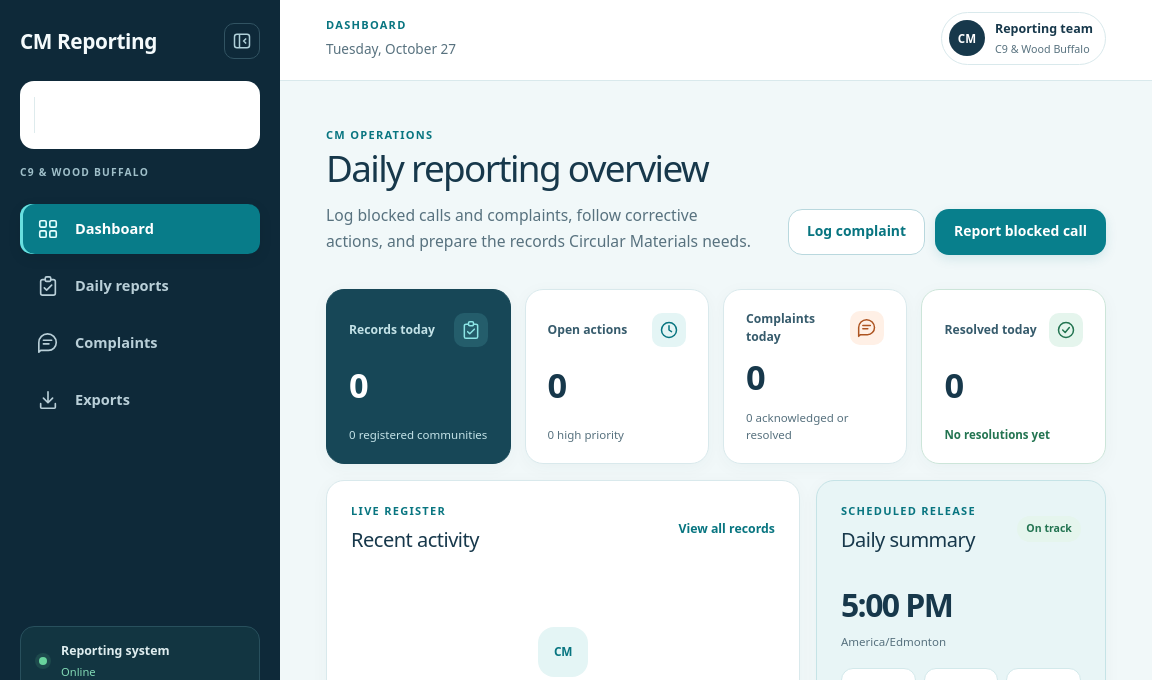
it: export date controls › blocks invalid ranges and re-enables a corrected Complaint record export
Click the button "Exports" at (140, 400), box [20, 375, 260, 425]
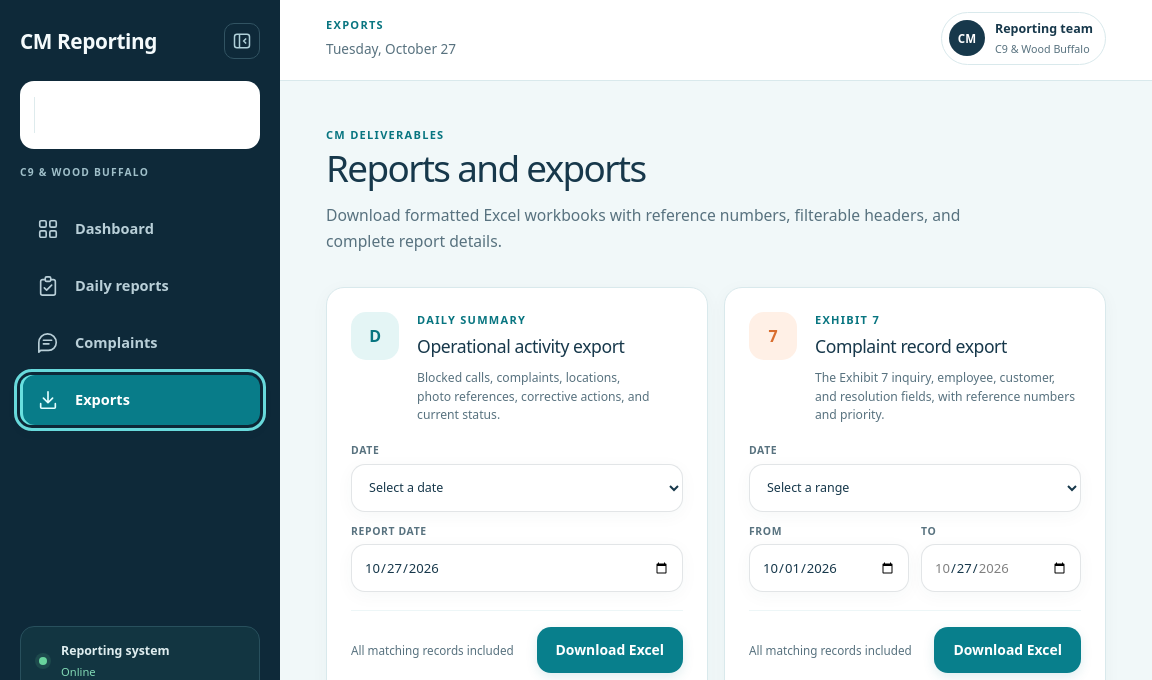
Select "Select a range" in the dropdown labelled "Date" below "Complaint record export" at (915, 488), box [749, 464, 1081, 512]
Type "2026-09-24" into the date field labelled "From" at (829, 568), box [749, 544, 909, 592]
Type "2026-09-21" into the date field labelled "To" at (1001, 568), box [921, 544, 1081, 592]
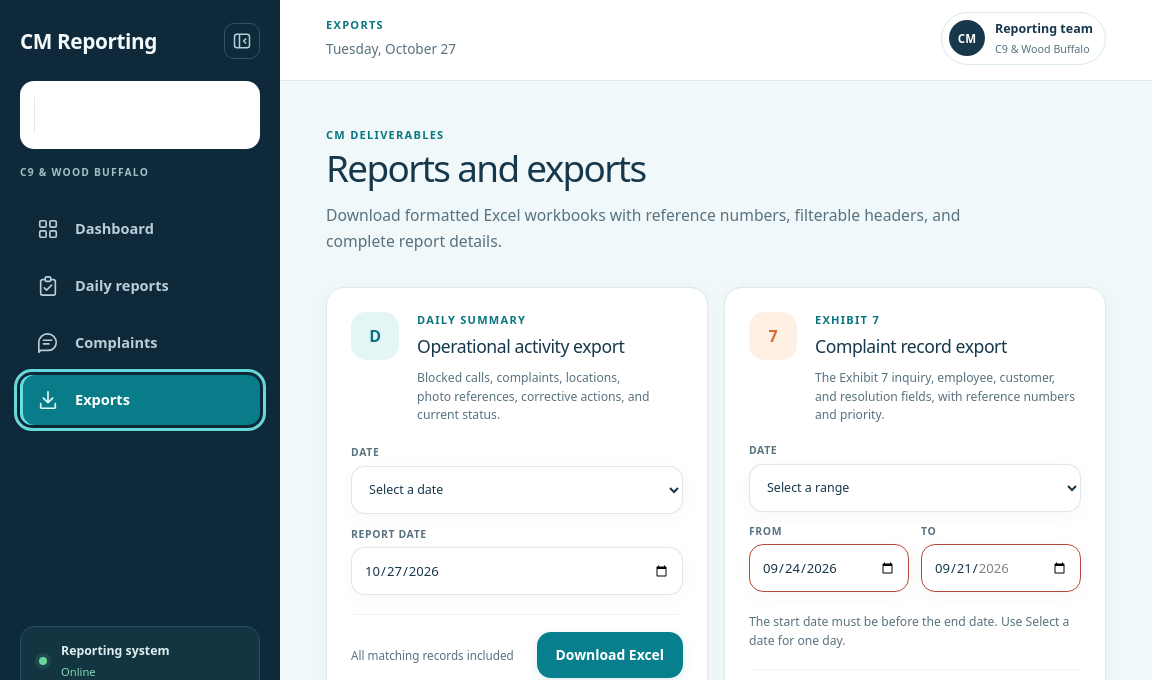
Now the message shows "start date must be before", box [749, 613, 1069, 649]
Type "2026-09-24" into the date field labelled "To" at (1001, 568), box [921, 544, 1081, 592]
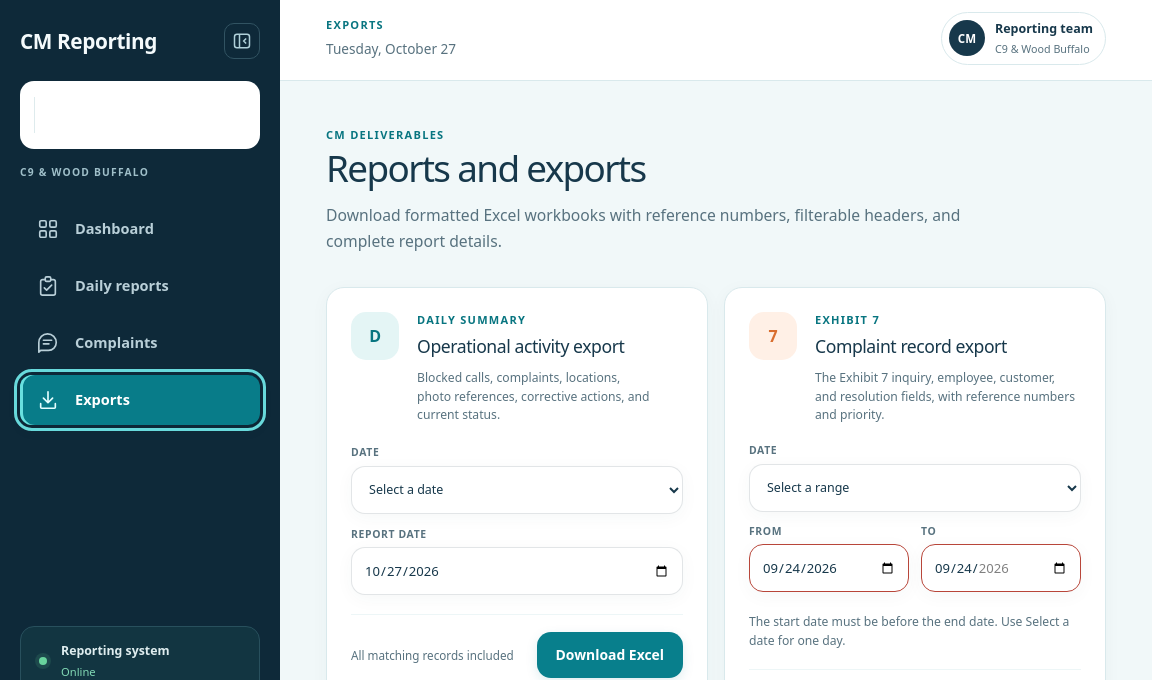
Now the message shows "Use Select a date", box [749, 613, 1069, 649]
Select "Select a date" in the dropdown labelled "Date" below "Complaint record export" at (915, 488), box [749, 464, 1081, 512]
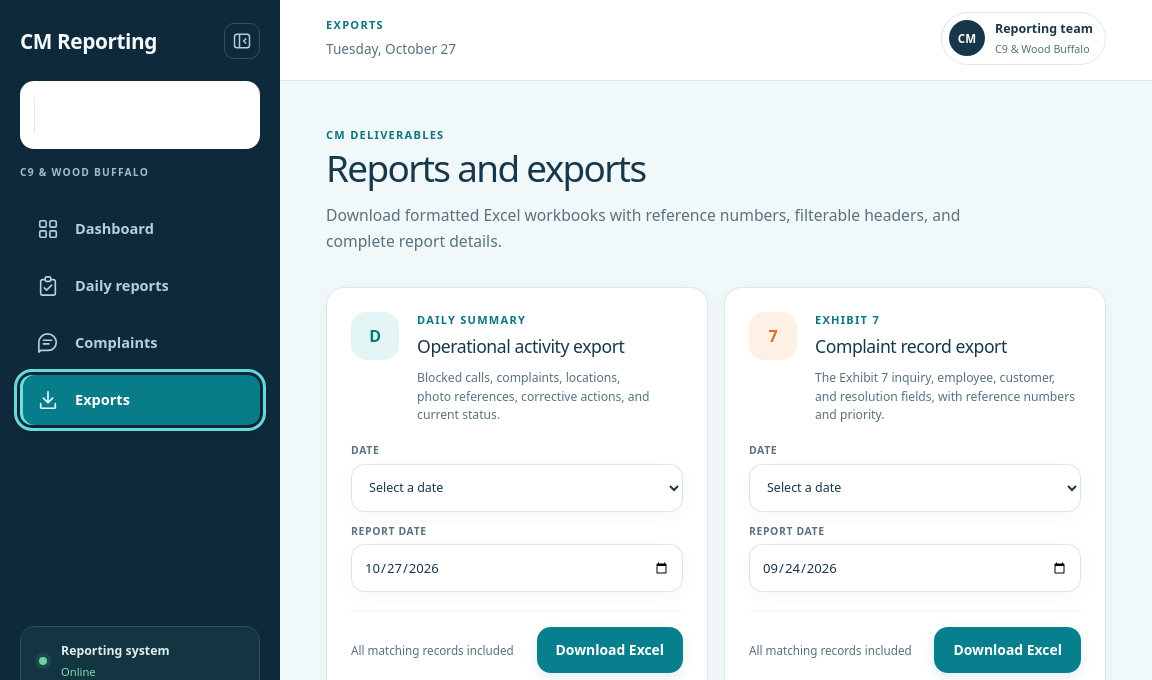
Now the message "The start date must be before the end date. Use Select a date for one day." is gone
Select "Select a range" in the dropdown labelled "Date" below "Complaint record export" at (915, 488), box [749, 464, 1081, 512]
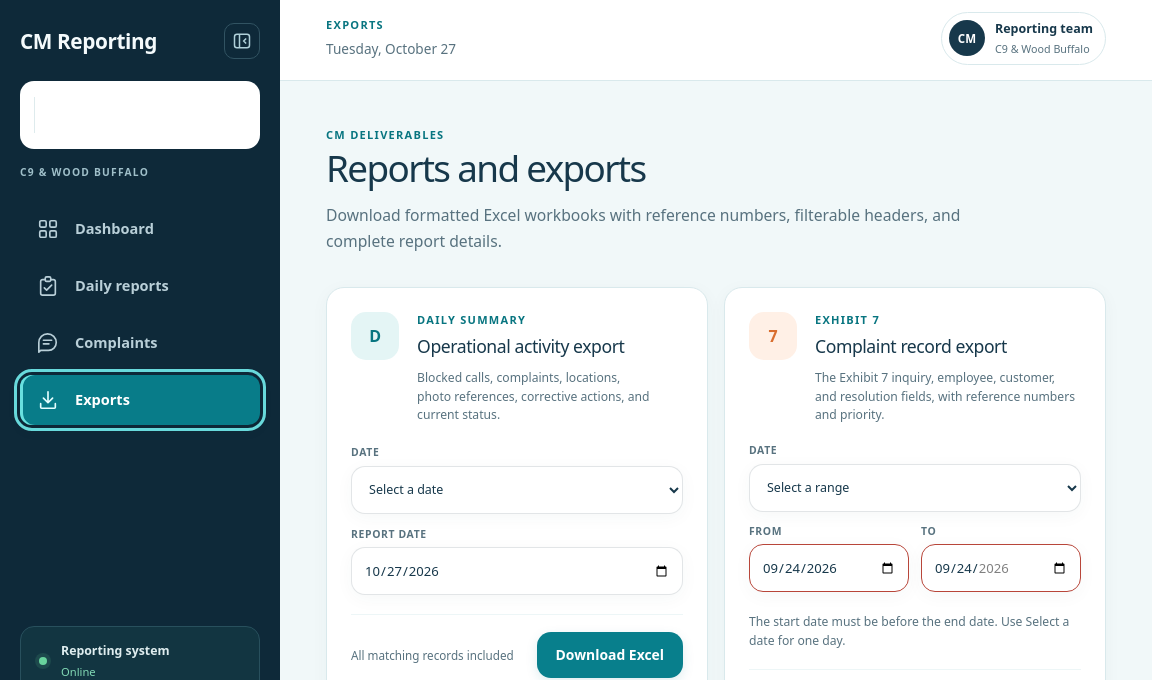
Clear the date field labelled "From" at (829, 568), box [749, 544, 909, 592]
(page scrolled)
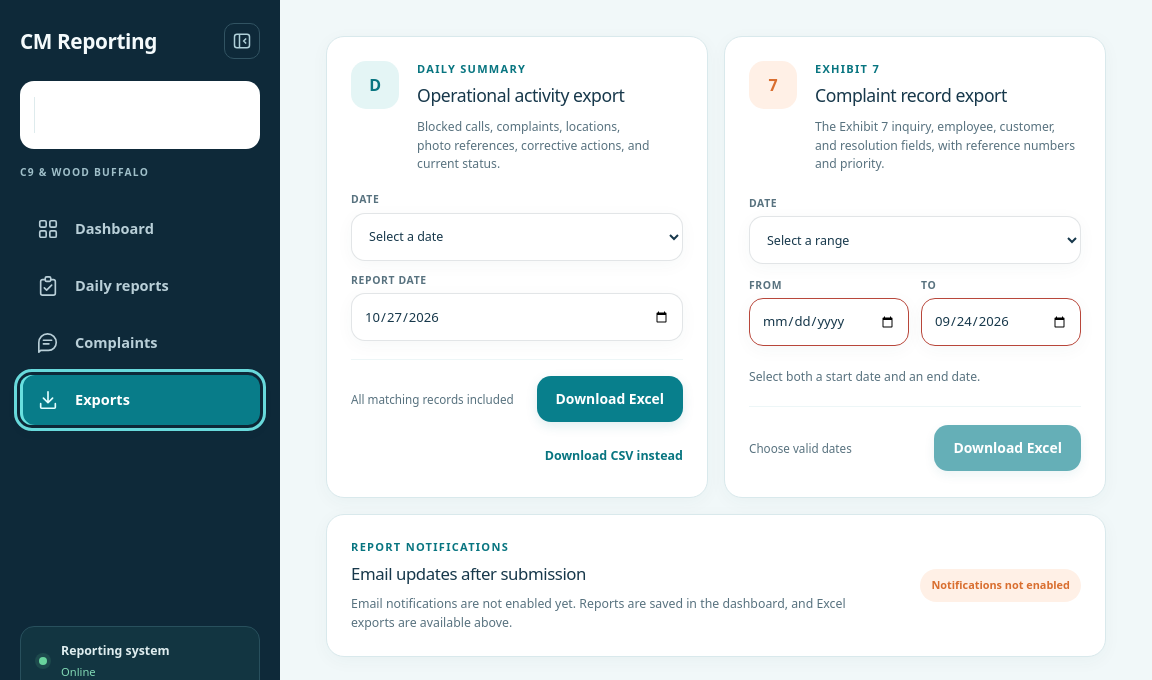
Now the button "Download Excel" is disabled, box [934, 425, 1081, 471]
Now the message shows "Select both", box [749, 368, 980, 385]
